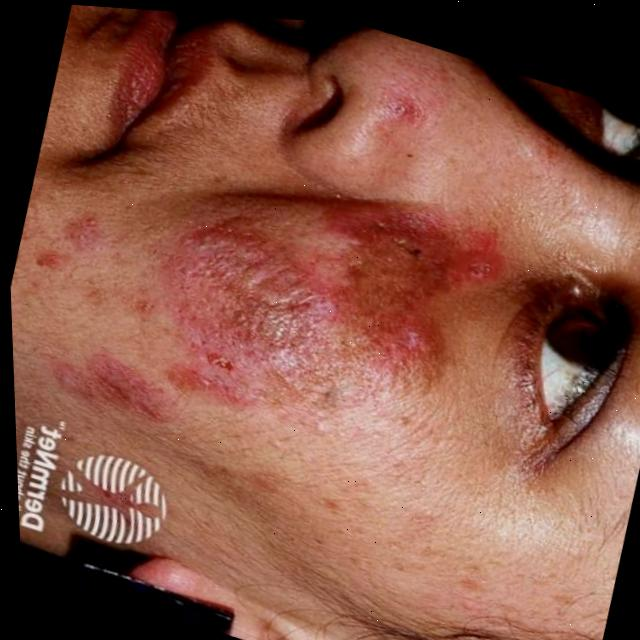lupus-detected: (138, 111, 525, 482), (6, 173, 235, 460)
